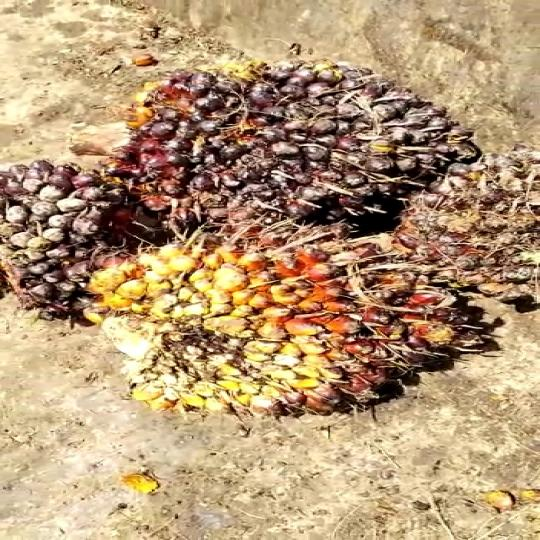kurang masak: (89, 224, 495, 423), (112, 65, 479, 224), (0, 166, 125, 287)
